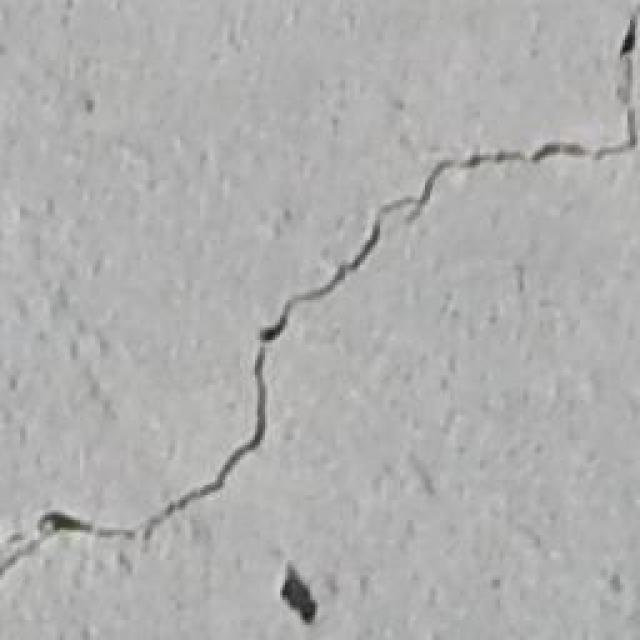concrete-crack: (0, 4, 640, 582), (278, 562, 320, 628)
